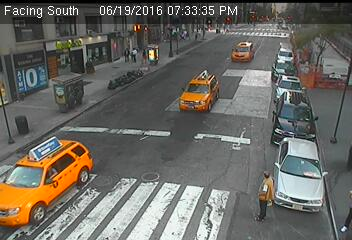neg: (31, 113, 72, 168), (63, 127, 96, 171), (278, 169, 302, 201)
pos: (242, 166, 286, 224), (119, 45, 134, 66), (127, 45, 142, 65)
